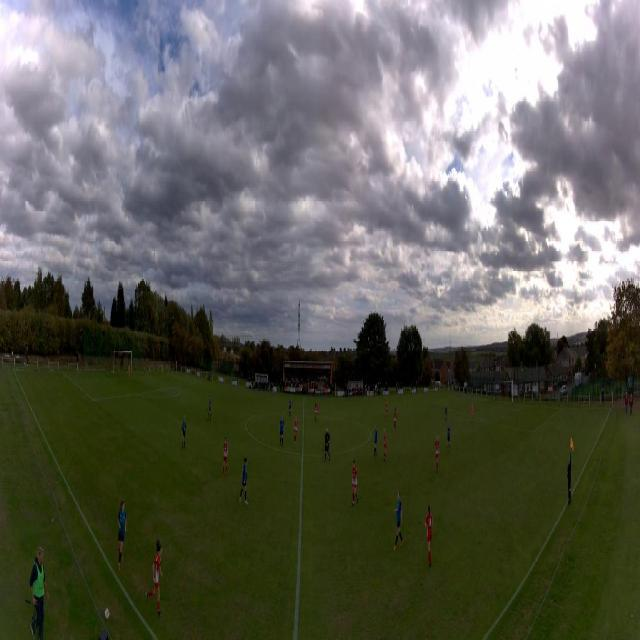player: (146, 537, 163, 617), (117, 497, 128, 573), (393, 490, 404, 552), (424, 505, 434, 567), (239, 457, 249, 506), (351, 459, 359, 507), (324, 428, 331, 463), (222, 437, 228, 477), (434, 435, 440, 473), (279, 415, 285, 447), (373, 423, 378, 457), (182, 415, 187, 449), (383, 428, 387, 462), (294, 415, 298, 445), (447, 423, 451, 453), (207, 395, 211, 422), (393, 407, 397, 433), (314, 403, 318, 422), (470, 402, 473, 422), (385, 401, 388, 421), (289, 397, 292, 417), (445, 405, 447, 423), (128, 364, 130, 381)
